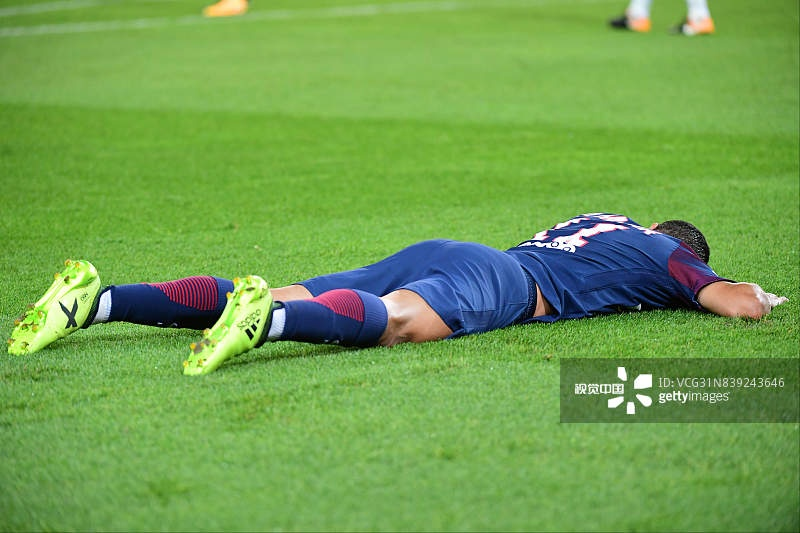falling: (18, 180, 767, 366)
